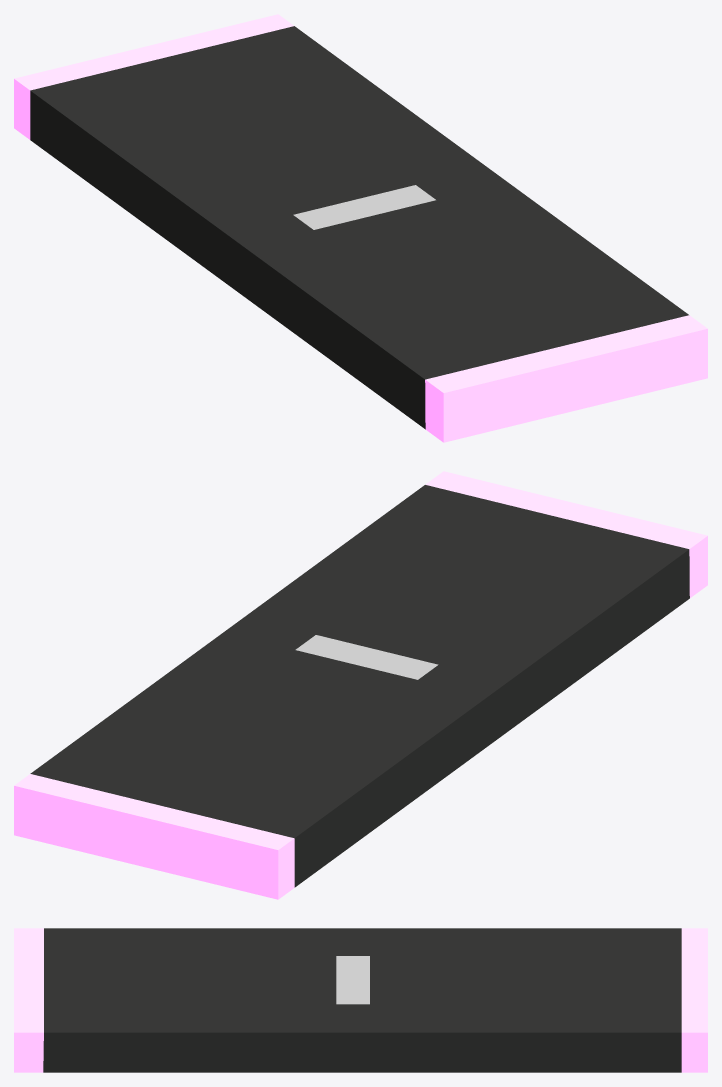
Rendered from roadGLOW.fbx.
The picture shows the model from 3 angles, top to bottom: view 1: azimuth 30°, elevation 25°; view 2: azimuth 150°, elevation 25°; view 3: azimuth 270°, elevation 25°; orthographic projection. The views are drawn at different scales.
Visible parts, largest first — view 1: Cube; view 2: Cube; view 3: Cube.
Part boxes in pixels (<box>): Cube: <box>14,14,707,442</box>; Cube: <box>14,471,707,899</box>; Cube: <box>14,928,707,1072</box>.
Size of the model in its own units: 108 by 19.34 by 304.
